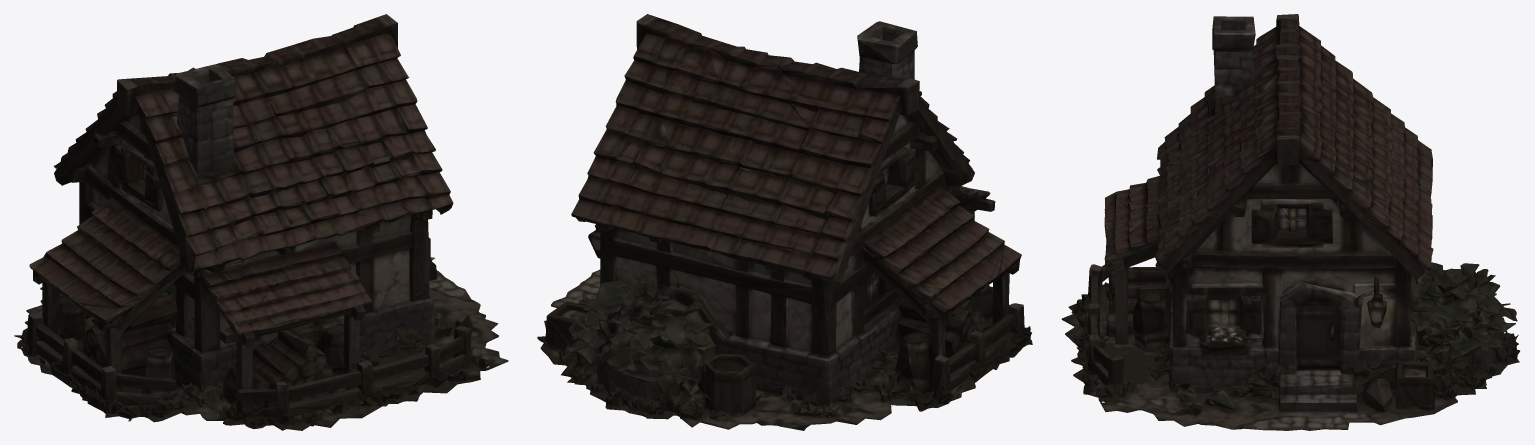
The model's file is war_house_gutted_01.glb.
The picture shows the model from 3 angles, left to right: view 1: azimuth 30°, elevation 25°; view 2: azimuth 150°, elevation 25°; view 3: azimuth 270°, elevation 25°; orthographic projection. The views are drawn at different scales.
Visible parts, largest first — view 1: geometry_0; view 2: geometry_0; view 3: geometry_0.
Boxes of the visible parts, x1,y1,x2,y2 form: geometry_0: [14, 14, 508, 430]; geometry_0: [537, 14, 1032, 430]; geometry_0: [1061, 14, 1519, 430].
Size of the model in its own units: 0.9625 by 0.6807 by 1.
Materials: 1 (1 with a texture image).
